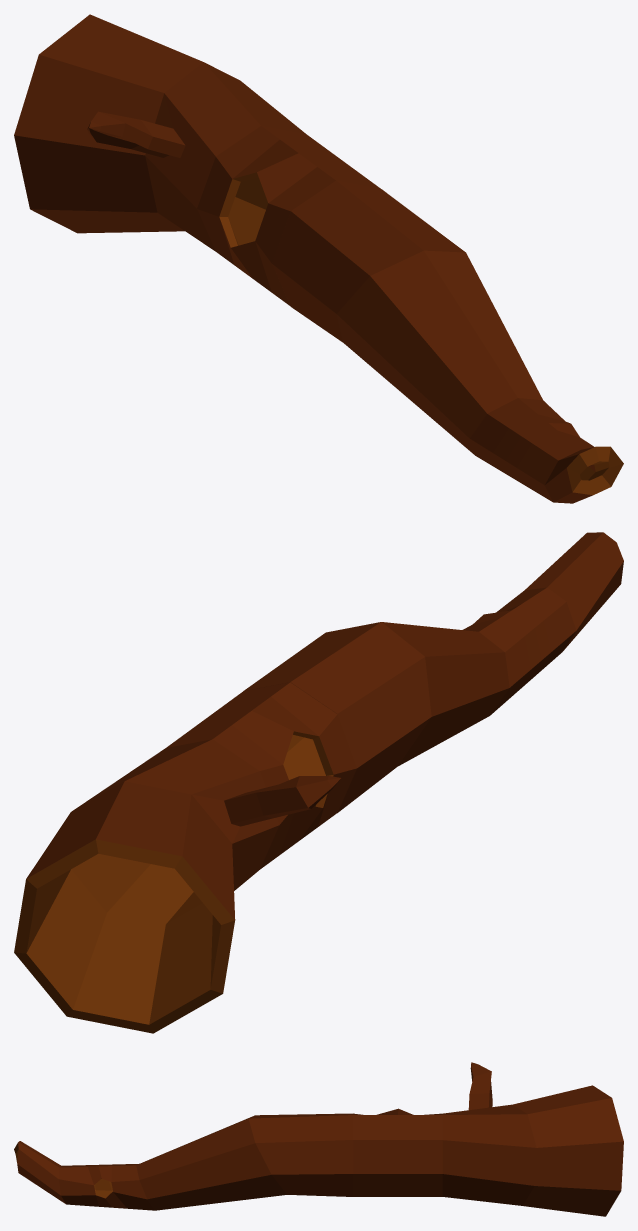
Rendered from kloda.fbx.
The picture shows the model from 3 angles, top to bottom: view 1: azimuth 30°, elevation 25°; view 2: azimuth 150°, elevation 25°; view 3: azimuth 270°, elevation 25°; orthographic projection. The views are drawn at different scales.
Visible parts, largest first — view 1: Circle; view 2: Circle; view 3: Circle.
Boxes of the visible parts, x1=… form: Circle: x1=14, y1=14, x2=623, y2=503; Circle: x1=14, y1=532, x2=623, y2=1033; Circle: x1=14, y1=1062, x2=623, y2=1216.
Size of the model in its own units: 331 by 287 by 1350.
